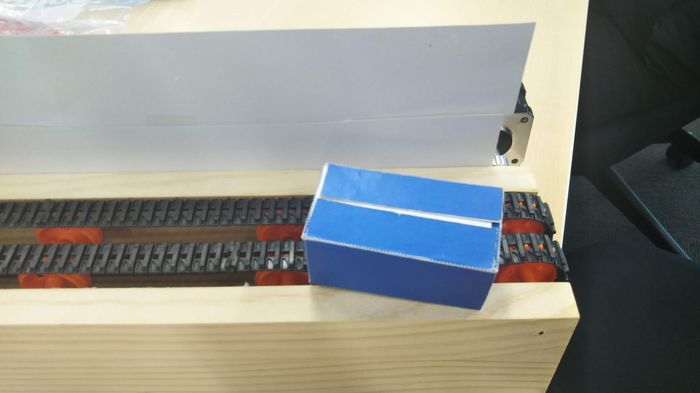box3: (299, 161, 507, 310)
